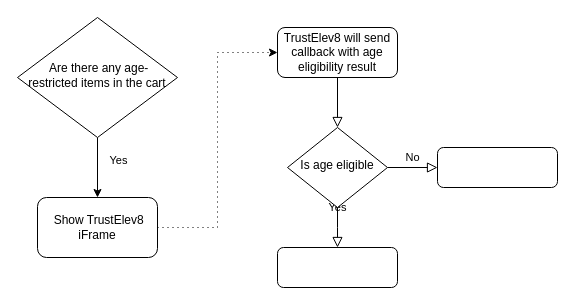
Image size: 575x305. Some labels were removed from this diagram. Here are the shapes that lost their labels. From the top down, the centre of each, then its label:
At point (497, 167): "Forbidden page".
At point (337, 267): "Proceed to check out".
